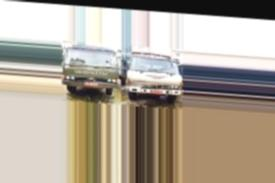License_Plate: (83, 80, 99, 88), (150, 89, 162, 95)
